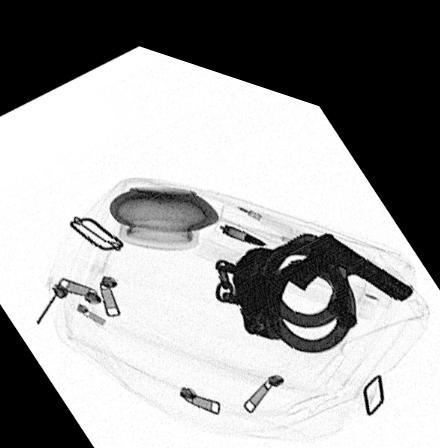Bullet: (222, 208, 265, 229)
Gun: (279, 211, 413, 277)
HandCuffs: (210, 208, 358, 336)
